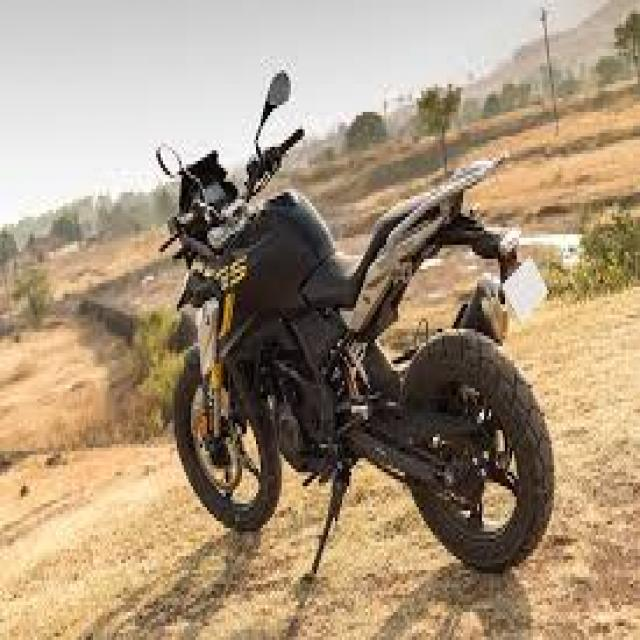Bike: (155, 69, 555, 576)
